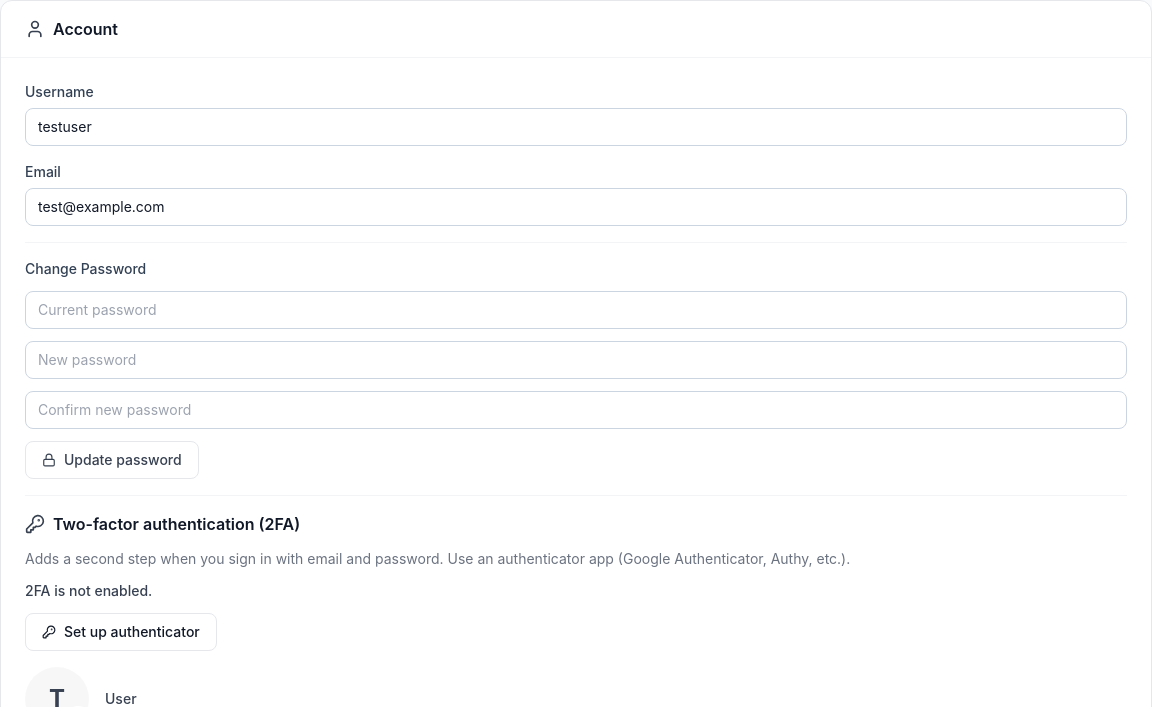
AccountTab › FE-COMP-ACCOUNT-010: clicking Update password without filling in shows error
The image size is (1152, 707).
Click the button "Update password" at point(112, 460), box x1=25 y1=441 x2=199 y2=479
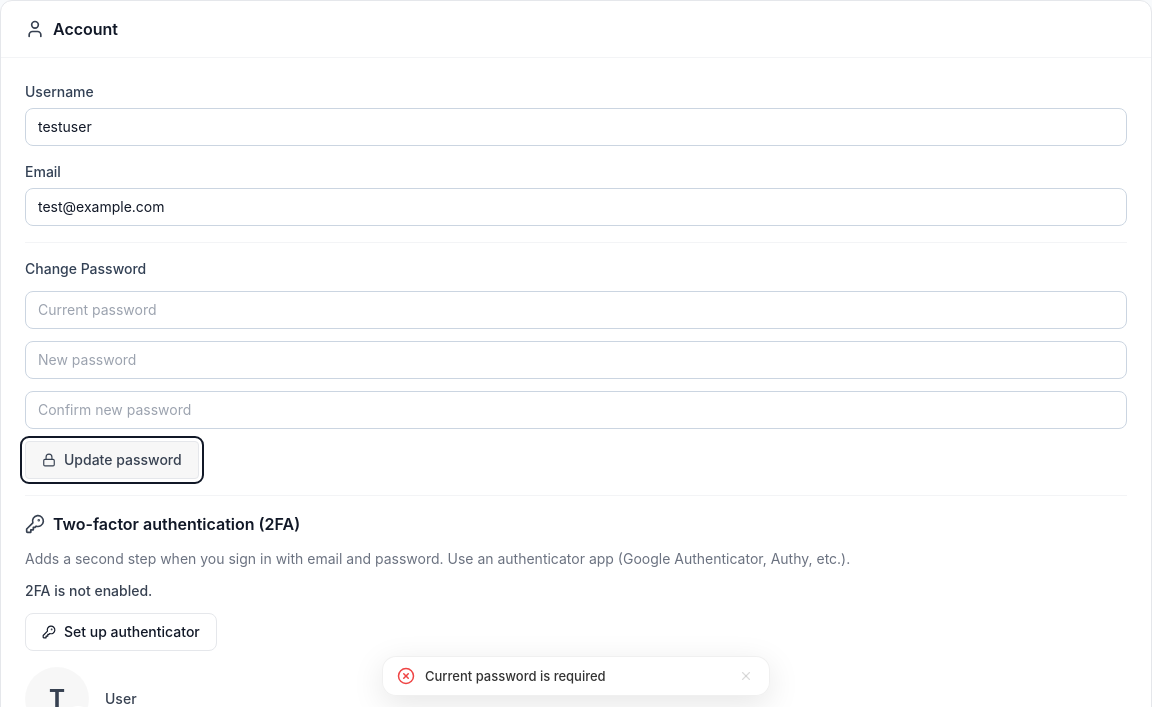
Result: the text "Current password is required" is shown at x1=425 y1=668 x2=606 y2=684
